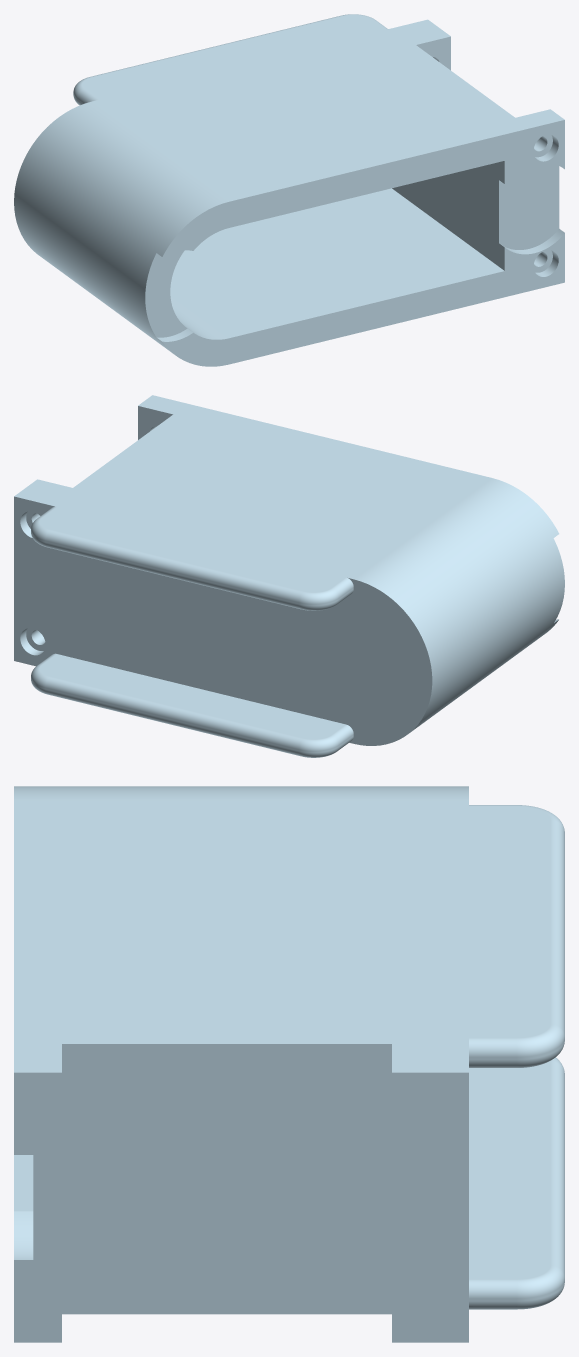
3 views of the same model, one above another, from view 1: azimuth 30°, elevation 25°; view 2: azimuth 150°, elevation 25°; view 3: azimuth 270°, elevation 25° (orthographic). The views are drawn at different scales.
Parts seen in each view (by area): view 1: SnakeTail; view 2: SnakeTail; view 3: SnakeTail.
Boxes of the visible parts, bbox=[...] form: SnakeTail: bbox=[14, 14, 564, 366]; SnakeTail: bbox=[14, 395, 564, 757]; SnakeTail: bbox=[14, 786, 564, 1342].
Bounding box in the file's own units: 0.0825 × 0.031 × 0.0573.
